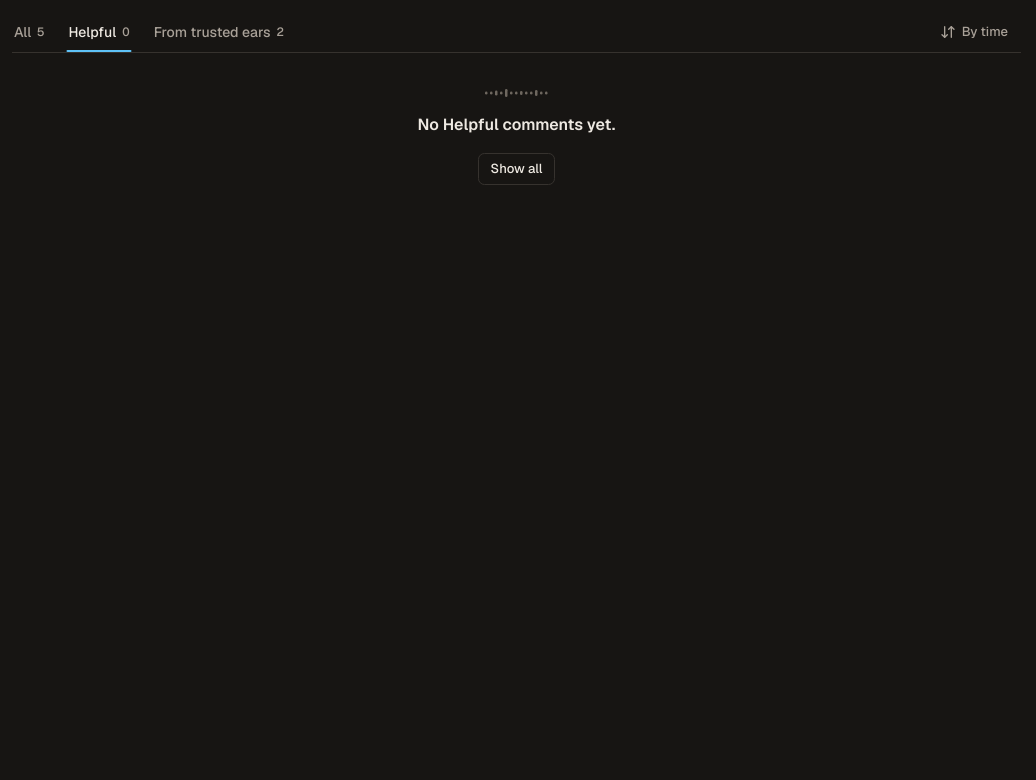
CommentList filter › shows an empty state with Show all when a filter has no matches
The width and height of the screenshot is (1036, 780).
expect the text "No Helpful comments yet." is shown: met, box [418, 113, 615, 137]
Click the button "Show all" at (516, 169), box [478, 153, 555, 185]
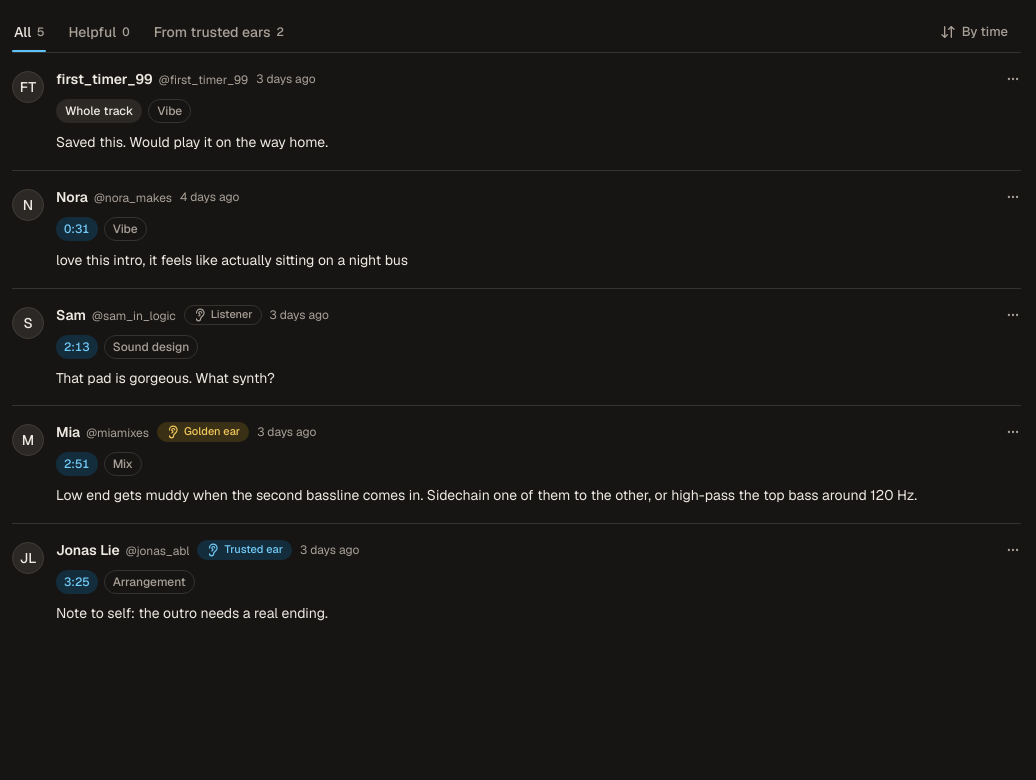
expect the list item that starts with "first_timer_99" is shown: met, box [12, 53, 1021, 171]
